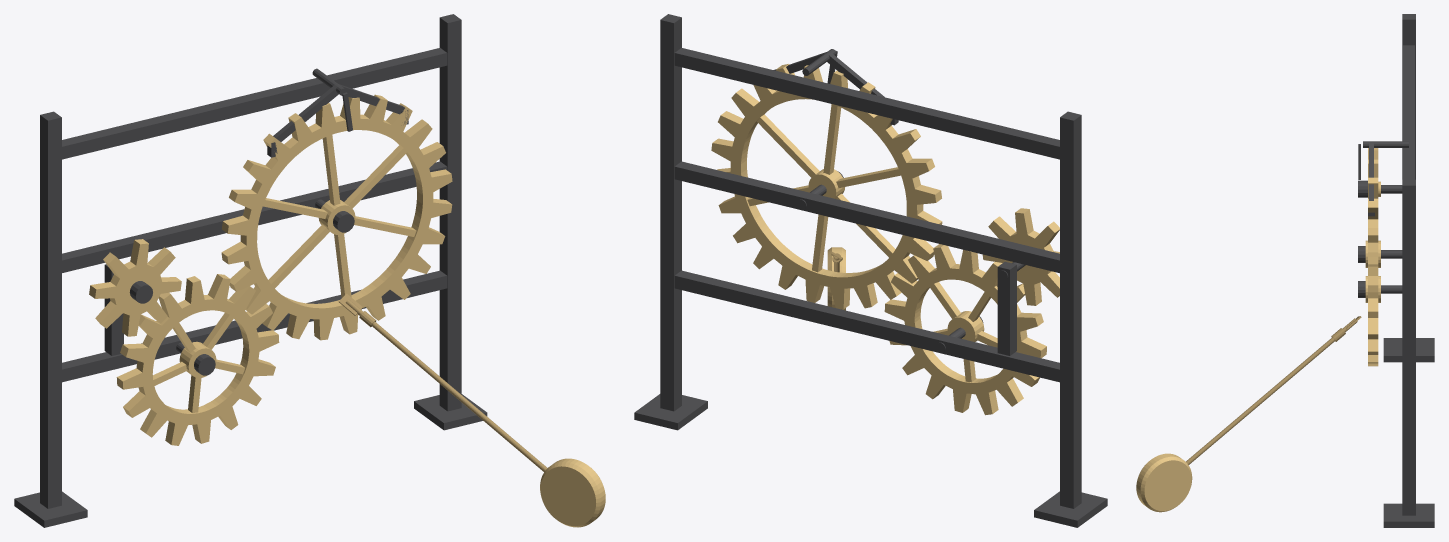
The model's file is Gears_Pendulum.fbx.
The picture shows the model from 3 angles, left to right: view 1: azimuth 30°, elevation 25°; view 2: azimuth 150°, elevation 25°; view 3: azimuth 270°, elevation 25°; orthographic projection. The views are drawn at different scales.
Visible parts, largest first — view 1: Mechanism_Frame, Gear_Escapement_24T, Gear_Intermediate_16T, Gear_Pinion_8T, Pendulum_Bob, Pendulum_Arm; view 2: Mechanism_Frame, Gear_Escapement_24T, Gear_Intermediate_16T, Gear_Pinion_8T; view 3: Mechanism_Frame, Pendulum_Bob, Gear_Escapement_24T, Pendulum_Arm.
Boxes of the visible parts, x1,y1,x2,y2 form: Mechanism_Frame: (14,14,487,527); Gear_Escapement_24T: (221,94,452,340); Gear_Intermediate_16T: (116,274,279,445); Gear_Pinion_8T: (89,239,181,336); Pendulum_Bob: (540,458,605,527); Pendulum_Arm: (338,293,547,471); Mechanism_Frame: (634,14,1107,527); Gear_Escapement_24T: (711,64,942,309); Gear_Intermediate_16T: (884,244,1046,415); Gear_Pinion_8T: (982,208,1059,305); Mechanism_Frame: (1358,14,1434,527); Pendulum_Bob: (1136,453,1192,512); Gear_Escapement_24T: (1365,148,1380,365); Pendulum_Arm: (1186,316,1361,464).
Size of the model in its own units: 5.1 by 4.35 by 3.5.
